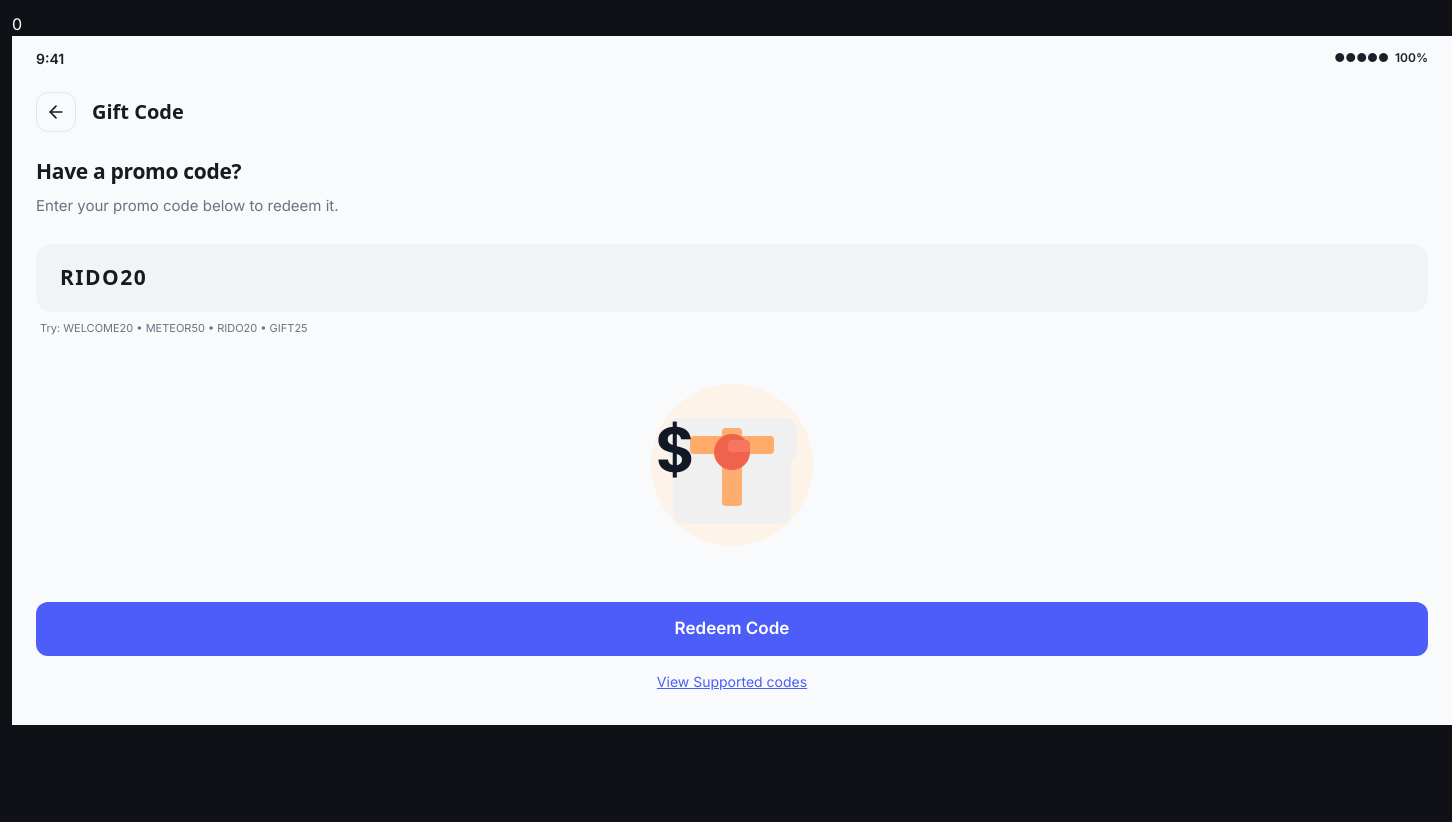
Test: Gift redeem via useBooking.redeemGiftCode › GiftCodePage redeem wires shared context balance (not silent local-only)
Replace the text in the field with placeholder "Enter code" with "GIFT25" at (732, 278), box [60, 262, 1404, 294]
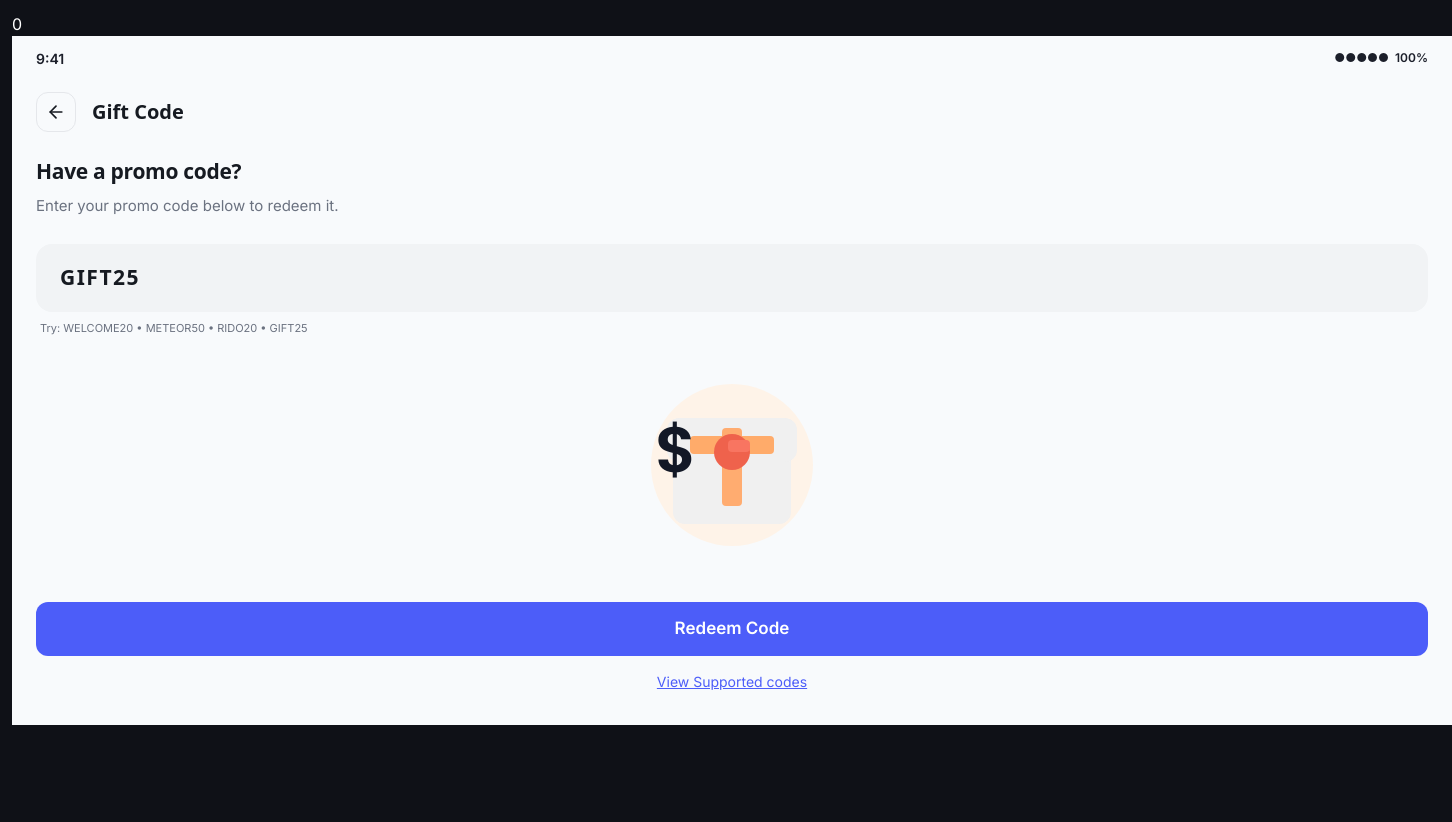
Click the button "Redeem Code".
click(732, 629)  # box [36, 602, 1428, 656]
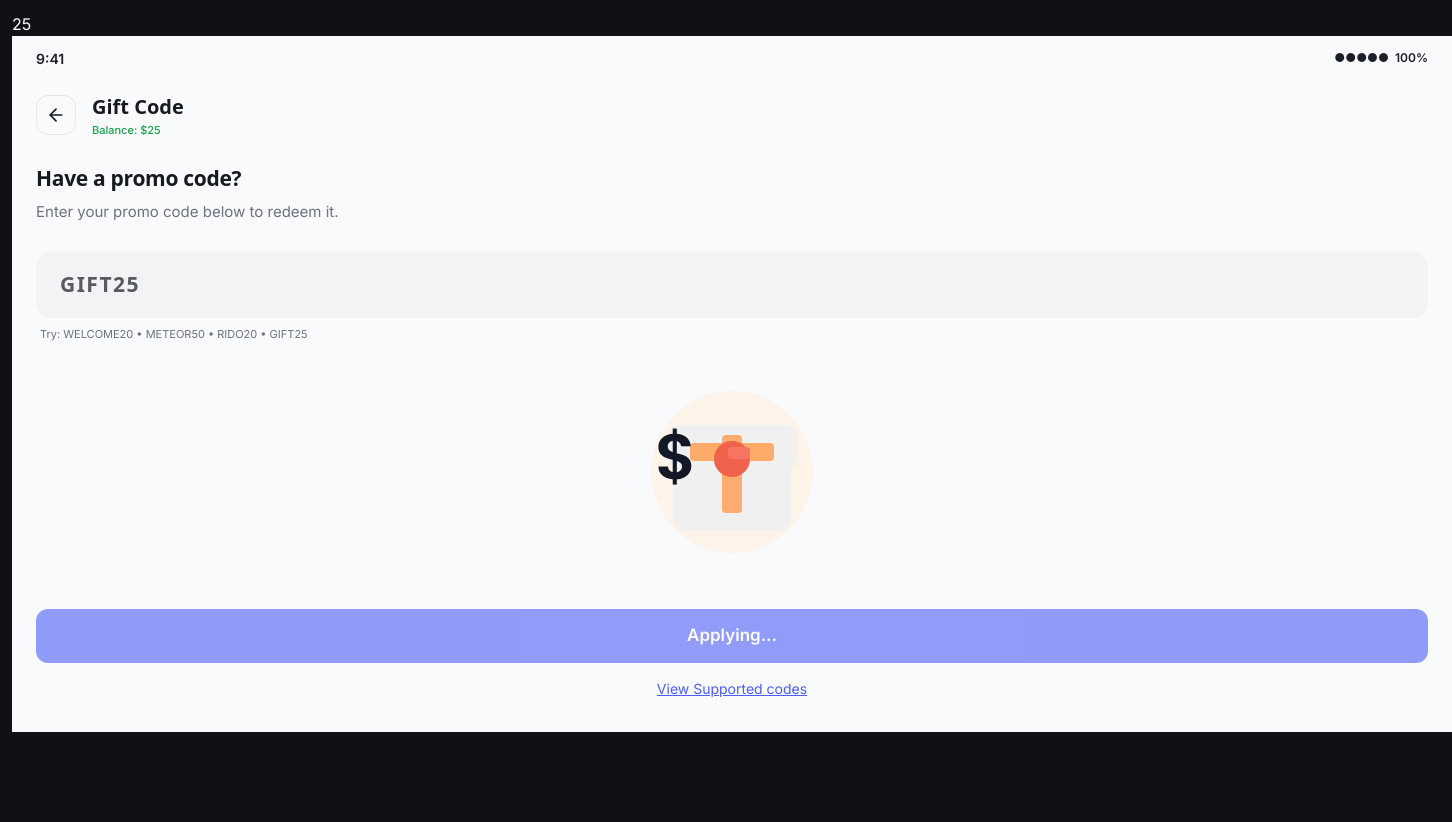
Expected: the text with test id "balance" reads "25", [12, 14, 31, 34]
